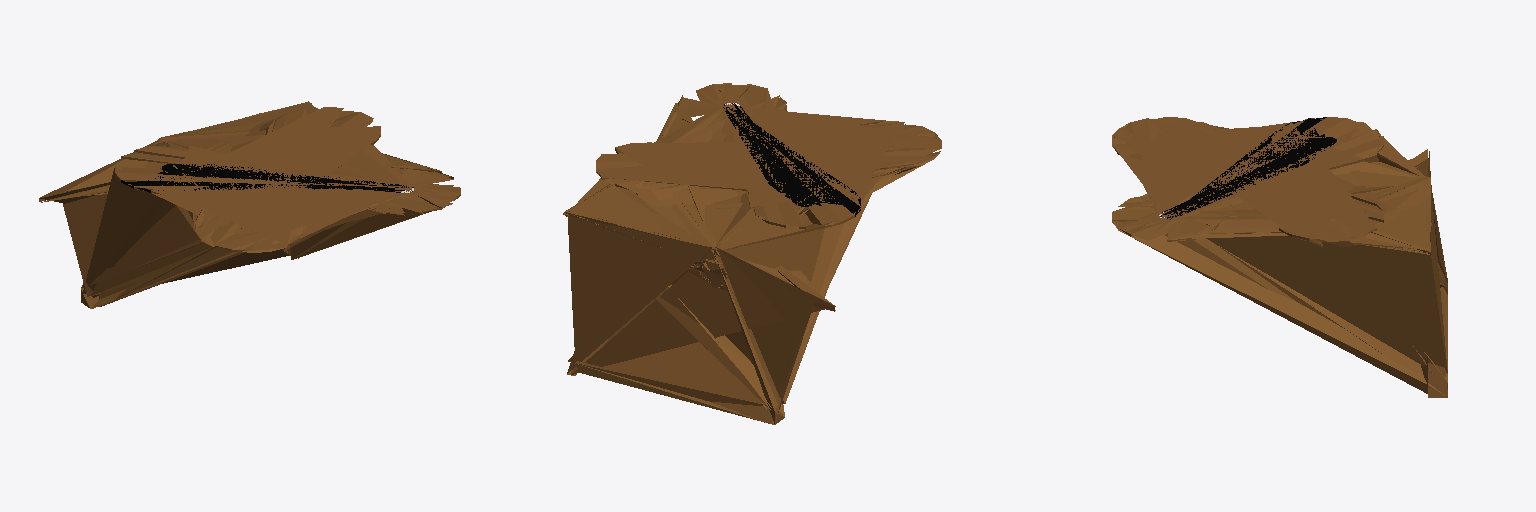
File: Stove.obj
3 renders of one model, left to right at view 1: azimuth 30°, elevation 25°; view 2: azimuth 150°, elevation 25°; view 3: azimuth 270°, elevation 25°, orthographic.
Parts seen in each view (by area): view 1: Box012, Cylinder021, Cylinder016; view 2: Box012, Cylinder021, Cylinder016; view 3: Box012, Cylinder021, Cylinder016.
Boxes of the visible parts, x1,y1,x2,y2 form: Box012: [39, 101, 460, 308]; Cylinder021: [121, 164, 412, 192]; Cylinder016: [162, 164, 413, 192]; Box012: [563, 83, 941, 424]; Cylinder021: [724, 103, 860, 216]; Cylinder016: [723, 104, 814, 206]; Box012: [1112, 117, 1447, 397]; Cylinder021: [1161, 117, 1336, 218]; Cylinder016: [1160, 137, 1336, 219].
Bounding box in the file's own units: 13482 × 7749 × 13870.